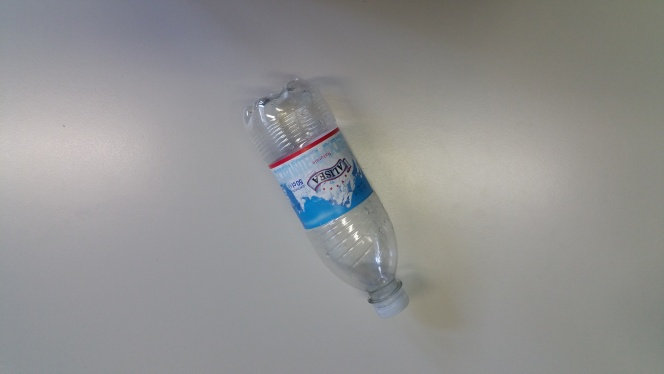bottle: (244, 73, 411, 318)
